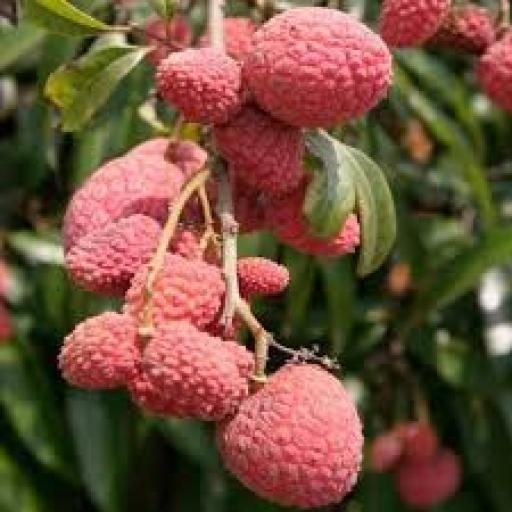lychee: (219, 365, 361, 507), (244, 7, 391, 127), (64, 139, 184, 252), (142, 324, 252, 420), (214, 105, 304, 195), (66, 214, 161, 295), (158, 48, 243, 125), (267, 189, 359, 257), (60, 312, 138, 389), (151, 255, 225, 327), (396, 451, 461, 509), (428, 5, 496, 54), (381, 0, 450, 47), (476, 32, 511, 111), (144, 14, 193, 65), (237, 258, 288, 295), (396, 421, 439, 461), (224, 16, 257, 61), (369, 431, 402, 473), (0, 303, 13, 341)
